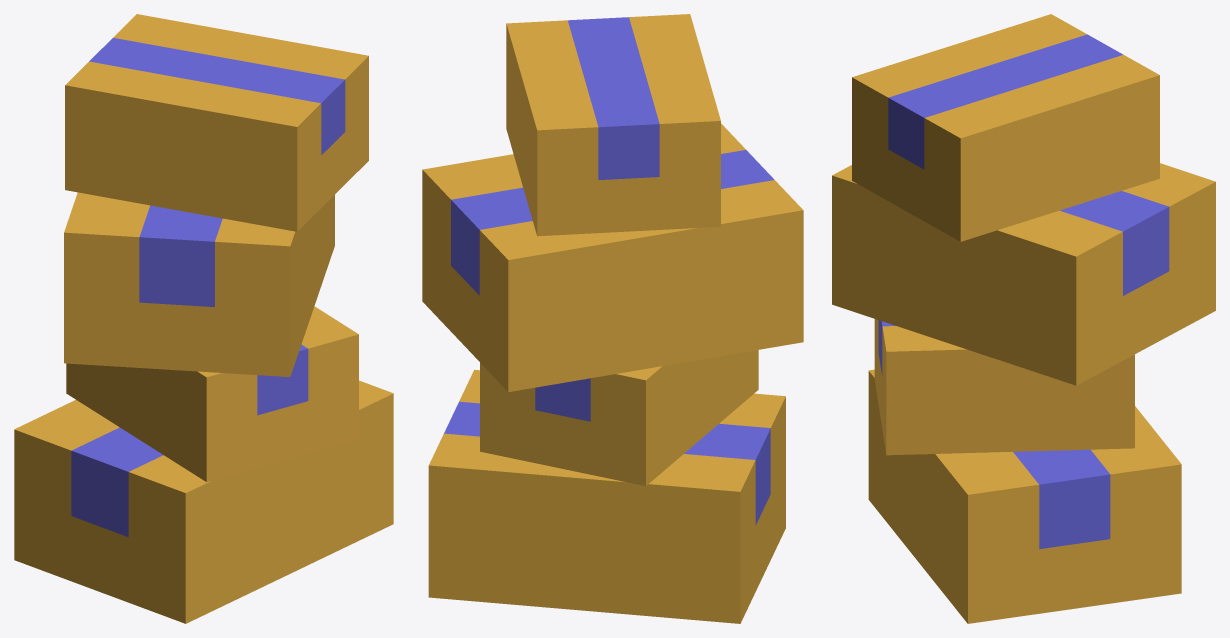
Rendered from obst1.fbx.
3 renders of one model, left to right at view 1: azimuth 30°, elevation 25°; view 2: azimuth 150°, elevation 25°; view 3: azimuth 270°, elevation 25°, orthographic. The views are drawn at different scales.
Visible parts, largest first — view 1: Cube.004; view 2: Cube.004; view 3: Cube.004.
Part boxes in pixels (x1,y1,x2,y2): Cube.004: (14, 14, 393, 623); Cube.004: (422, 14, 803, 623); Cube.004: (832, 14, 1215, 623).
Bounding box in the file's own units: 111 × 155 × 114.
